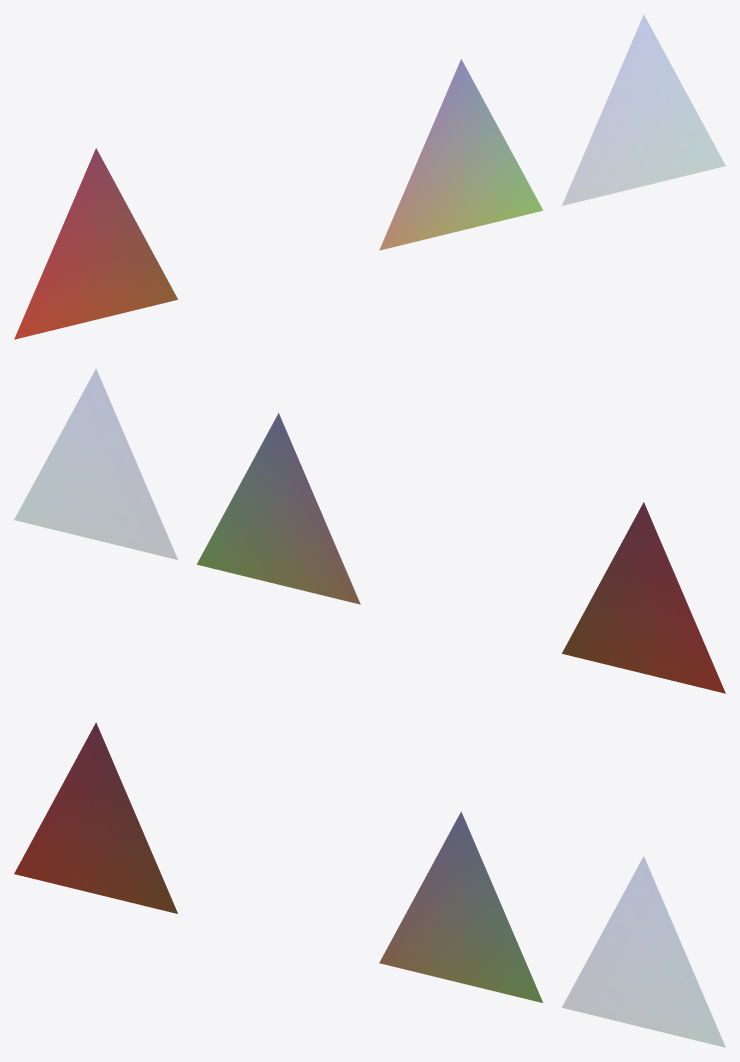
File: c1_alpha_modes.gltf
3 renders of one model, top to bottom at view 1: azimuth 30°, elevation 25°; view 2: azimuth 150°, elevation 25°; view 3: azimuth 330°, elevation 25°, orthographic.
Parts seen in each view (by area): view 1: C1Node2, C1Node0, C1Node3; view 2: C1Node2, C1Node0, C1Node3; view 3: C1Node0, C1Node2, C1Node3.
Part boxes in pixels (<box>): C1Node2: <box>379,59,543,250</box>; C1Node0: <box>14,148,177,339</box>; C1Node3: <box>562,15,725,205</box>; C1Node2: <box>196,413,360,604</box>; C1Node0: <box>562,502,725,693</box>; C1Node3: <box>14,369,177,559</box>; C1Node0: <box>14,722,177,913</box>; C1Node2: <box>379,811,542,1002</box>; C1Node3: <box>562,856,725,1047</box>.
Size of the model in its own units: 3.9 by 0.9 by 0.
Materials: 4 (2 with a texture image).
